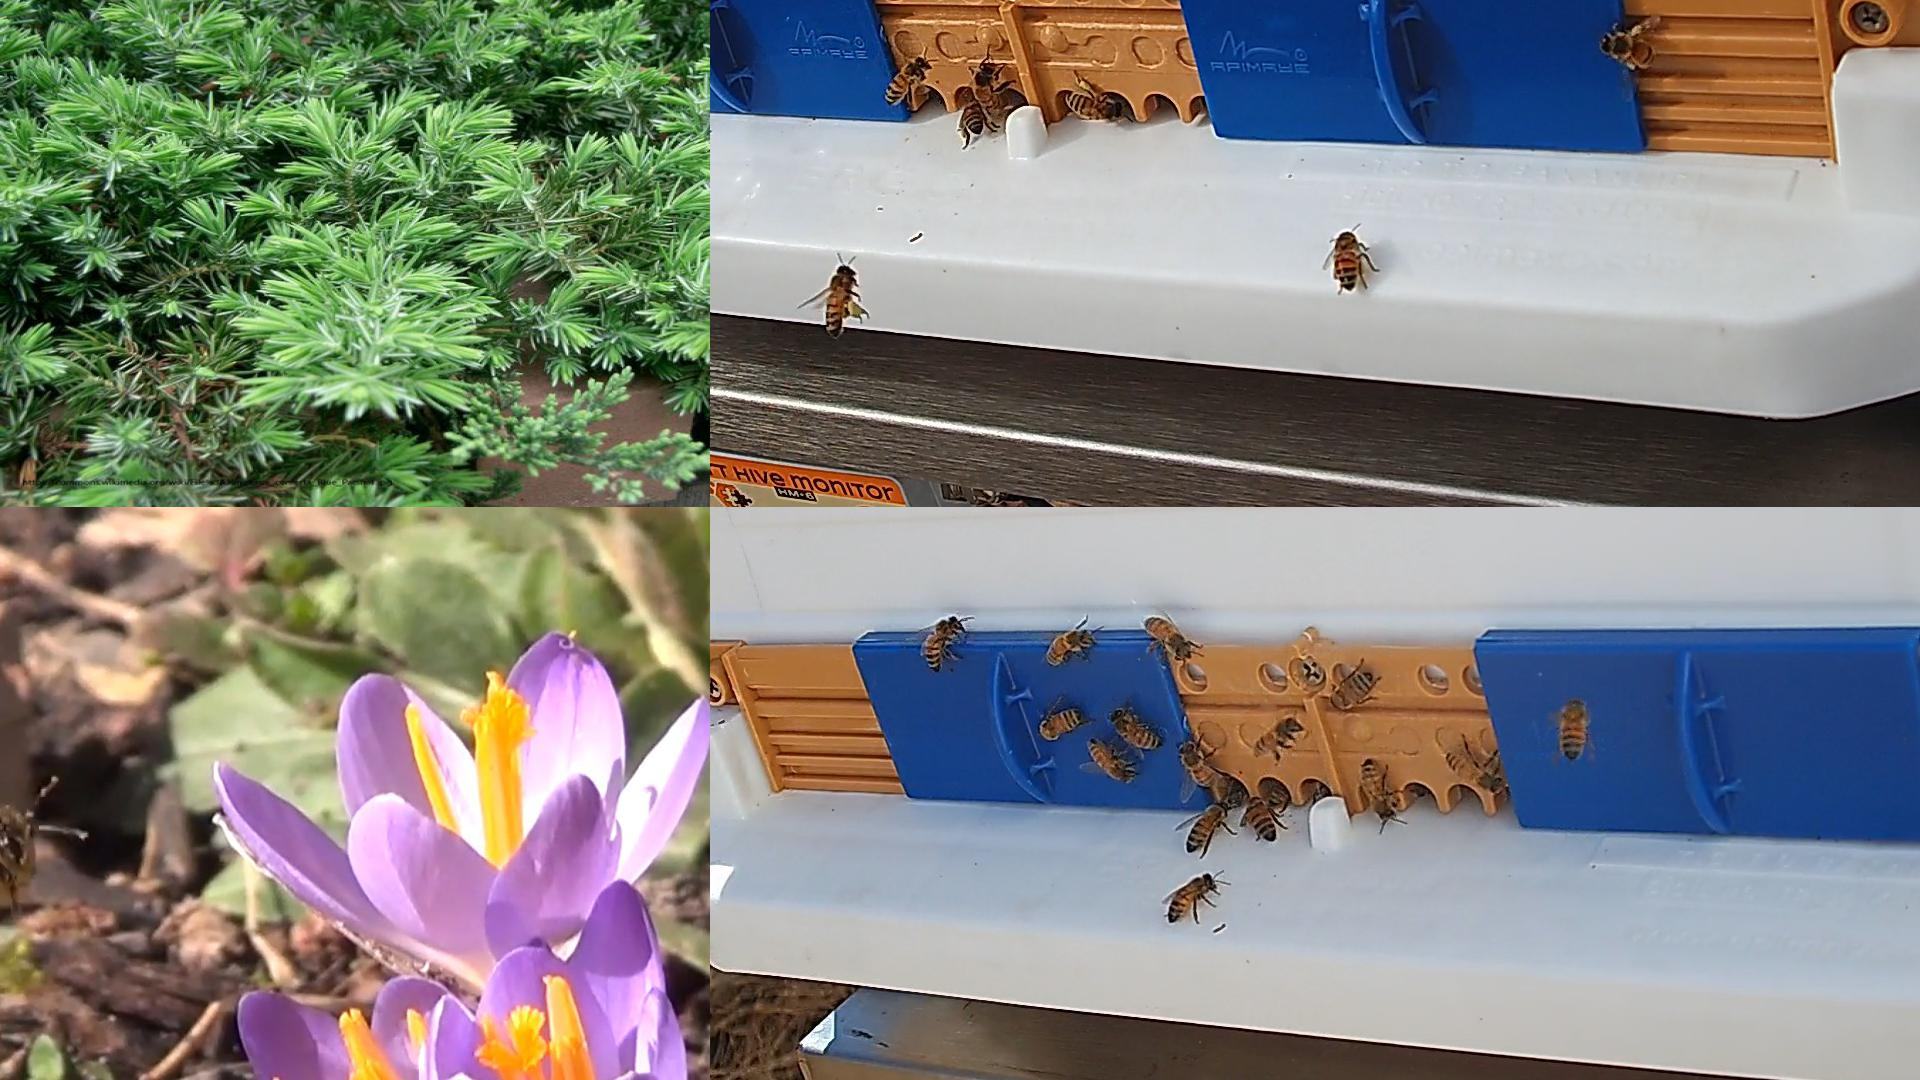bee: (1360, 757, 1400, 823), (1184, 800, 1229, 853), (1142, 615, 1193, 659), (1170, 870, 1215, 920), (1445, 750, 1501, 790), (922, 617, 961, 671), (1106, 708, 1160, 748), (1088, 737, 1134, 782), (886, 54, 927, 103), (1255, 716, 1302, 757), (1597, 33, 1654, 66), (975, 63, 1015, 108), (1332, 232, 1361, 291), (1179, 740, 1216, 786), (1559, 699, 1586, 758), (1331, 671, 1373, 709), (1063, 94, 1124, 119), (1038, 707, 1083, 738), (1046, 632, 1089, 663), (1245, 796, 1273, 841), (960, 94, 986, 137), (1265, 773, 1294, 807), (1224, 770, 1246, 807)
pollenbee: (827, 264, 864, 338)
